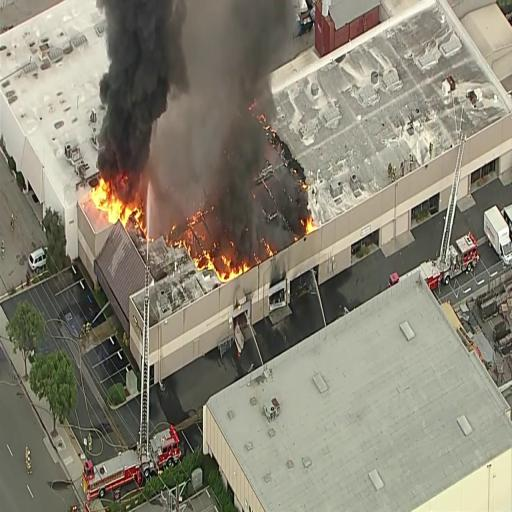fire: (84, 180, 144, 233)
smoke: (193, 0, 257, 243), (106, 2, 146, 163)
